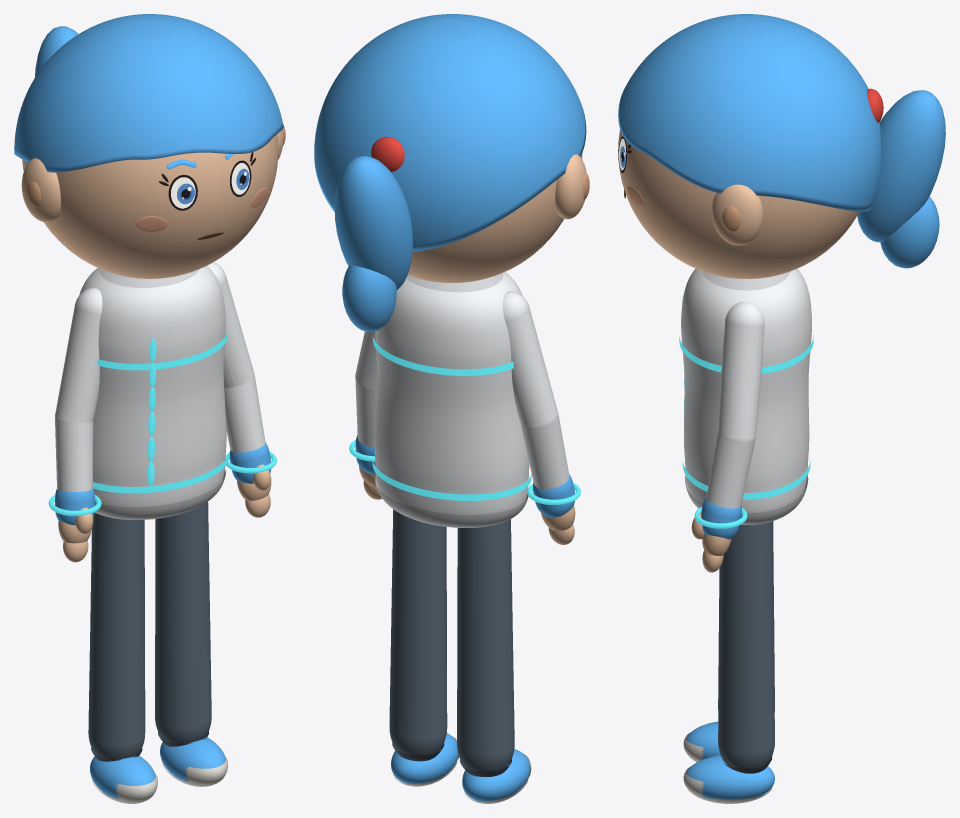
The model's file is toekomst_b.glb.
3 renders of one model, left to right at view 1: azimuth 30°, elevation 25°; view 2: azimuth 150°, elevation 25°; view 3: azimuth 270°, elevation 25°, orthographic.
Parts seen in each view (by area): view 1: toekomst_b_haar, toekomst_b_romp, toekomst_b_hoofd, toekomst_b_been_R, toekomst_b_been_L, toekomst_b_bovenarm_R, toekomst_b_onderarm_R, toekomst_b_onderarm_L, toekomst_b_bovenarm_L, toekomst_b_schoen_R, toekomst_b_schoen_L, toekomst_b_oor_R (+9 smaller); view 2: toekomst_b_haar, toekomst_b_romp, toekomst_b_been_R, toekomst_b_been_L, toekomst_b_staart, toekomst_b_hoofd, toekomst_b_bovenarm_R, toekomst_b_staart_punt, toekomst_b_onderarm_R, toekomst_b_schoen_R, toekomst_b_romp_boord, toekomst_b_schoen_L (+8 smaller); view 3: toekomst_b_haar, toekomst_b_romp, toekomst_b_hoofd, toekomst_b_been_L, toekomst_b_staart, toekomst_b_bovenarm_L, toekomst_b_onderarm_L, toekomst_b_schoen_L, toekomst_b_staart_punt, toekomst_b_oor_L, toekomst_b_manchet_L, toekomst_b_romp_halsboord (+4 smaller).
Part boxes in pixels (x1=…): toekomst_b_haar: x1=14, y1=14, x2=283, y2=172; toekomst_b_romp: x1=79, y1=266, x2=226, y2=507; toekomst_b_hoofd: x1=22, y1=134, x2=278, y2=278; toekomst_b_been_R: x1=88, y1=513, x2=145, y2=759; toekomst_b_been_L: x1=155, y1=502, x2=211, y2=743; toekomst_b_bovenarm_R: x1=55, y1=287, x2=102, y2=423; toekomst_b_onderarm_R: x1=55, y1=416, x2=93, y2=491; toekomst_b_onderarm_L: x1=224, y1=377, x2=265, y2=452; toekomst_b_bovenarm_L: x1=207, y1=262, x2=254, y2=388; toekomst_b_schoen_R: x1=90, y1=756, x2=155, y2=798; toekomst_b_schoen_L: x1=160, y1=737, x2=226, y2=782; toekomst_b_oor_R: x1=21, y1=158, x2=60, y2=222; toekomst_b_haar: x1=314, y1=14, x2=586, y2=251; toekomst_b_romp: x1=374, y1=272, x2=529, y2=514; toekomst_b_been_R: x1=457, y1=519, x2=514, y2=771; toekomst_b_been_L: x1=389, y1=509, x2=447, y2=755; toekomst_b_staart: x1=334, y1=156, x2=412, y2=290; toekomst_b_hoofd: x1=408, y1=153, x2=582, y2=282; toekomst_b_bovenarm_R: x1=502, y1=291, x2=557, y2=428; toekomst_b_staart_punt: x1=342, y1=265, x2=396, y2=331; toekomst_b_onderarm_R: x1=520, y1=416, x2=569, y2=489; toekomst_b_schoen_R: x1=462, y1=749, x2=530, y2=801; toekomst_b_romp_boord: x1=375, y1=477, x2=528, y2=527; toekomst_b_schoen_L: x1=391, y1=733, x2=458, y2=784; toekomst_b_haar: x1=618, y1=14, x2=880, y2=211; toekomst_b_romp: x1=681, y1=268, x2=811, y2=513; toekomst_b_hoofd: x1=618, y1=129, x2=858, y2=278; toekomst_b_been_L: x1=718, y1=521, x2=774, y2=768; toekomst_b_staart: x1=857, y1=90, x2=945, y2=242; toekomst_b_bovenarm_L: x1=717, y1=301, x2=764, y2=442; toekomst_b_onderarm_L: x1=706, y1=433, x2=754, y2=508; toekomst_b_schoen_L: x1=686, y1=755, x2=774, y2=799; toekomst_b_staart_punt: x1=880, y1=196, x2=939, y2=268; toekomst_b_oor_L: x1=711, y1=184, x2=763, y2=245; toekomst_b_manchet_L: x1=701, y1=498, x2=741, y2=539; toekomst_b_romp_halsboord: x1=702, y1=271, x2=790, y2=290.
Size of the model in its own units: 0.6336 by 1.79 by 0.7043.
